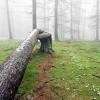Downstairs: (1, 27, 41, 100)
